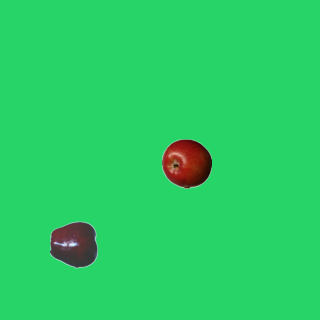Apple Braeburn: (161, 138, 211, 188)
Apple Red Delicious: (49, 219, 99, 269)
